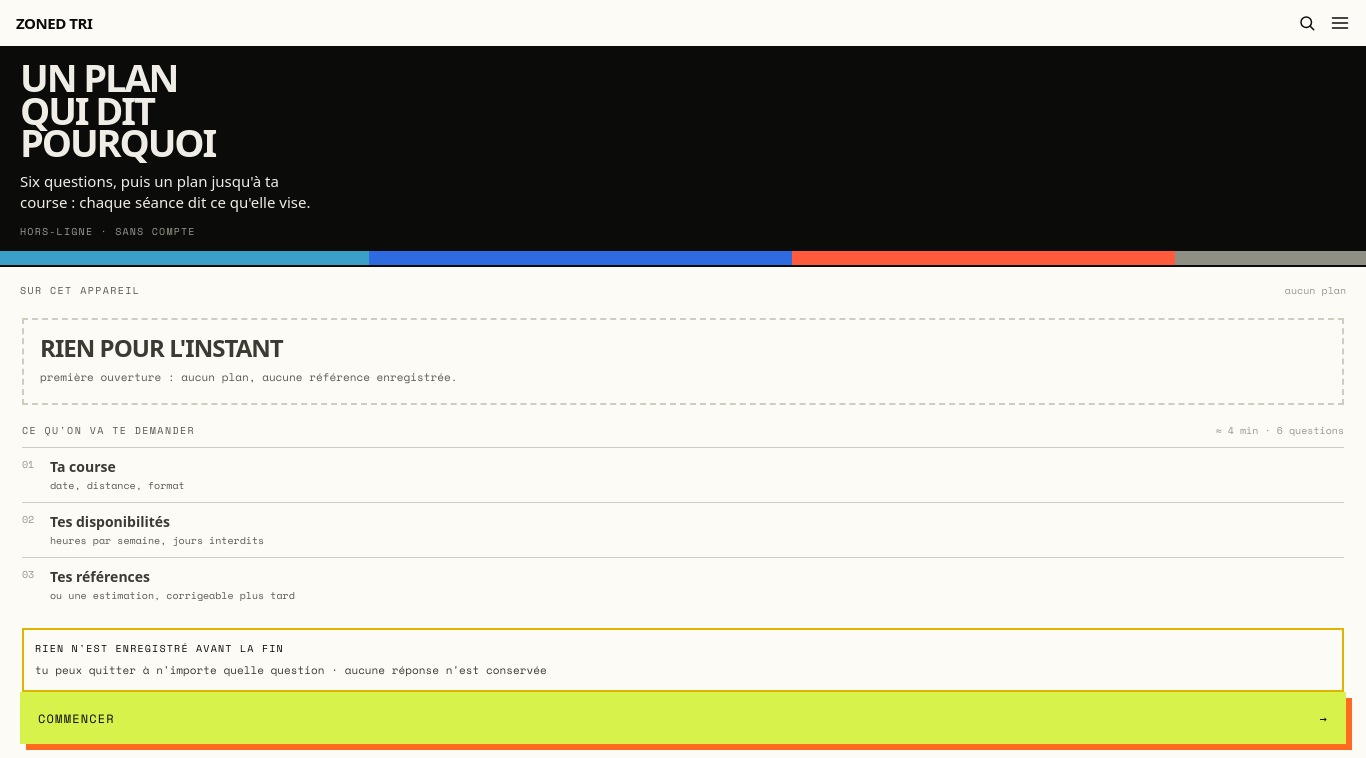
Test case: App › navigates from the burger menu to another root section
Click the button named "Menu": (1340, 23) [1330,13,1350,33]
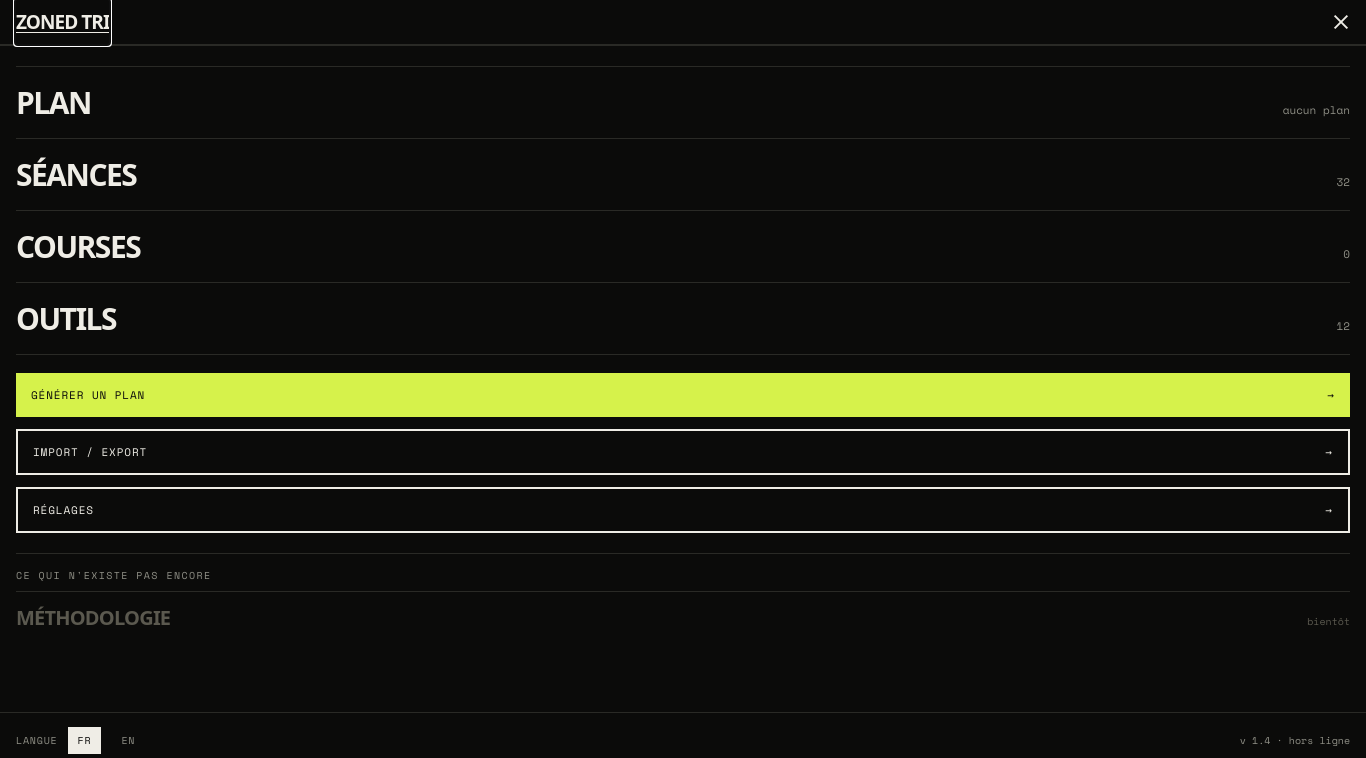
Click the link "Outils 12": (66, 318) [16,282,1350,355]
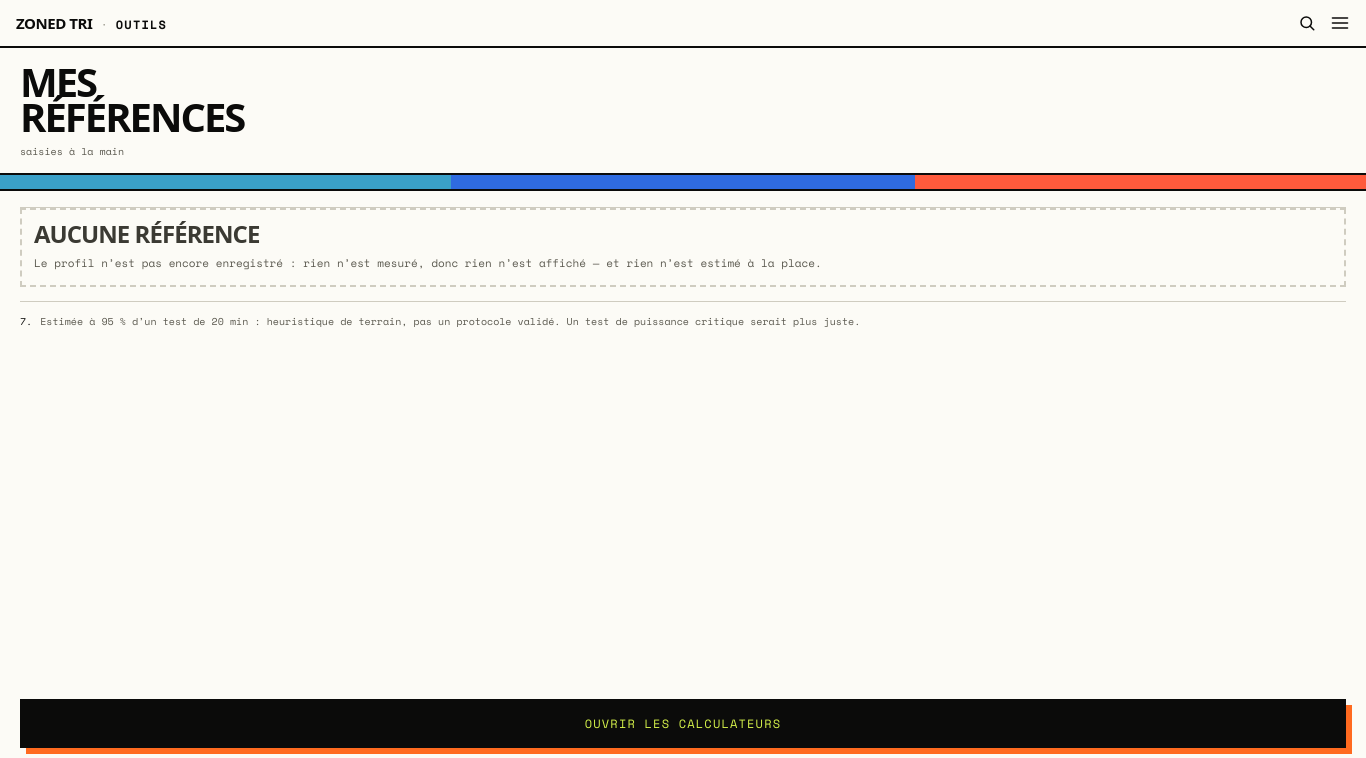
Expected: the heading "Mes références" is shown, [20,54,244,144]
